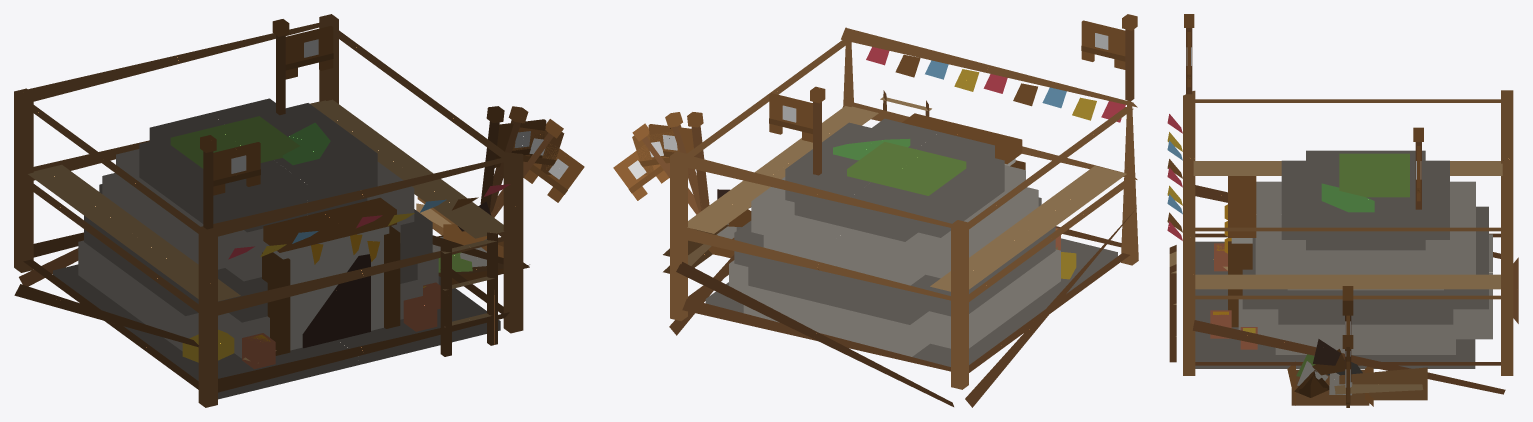
File: bear-producer_lod1.glb
3 renders of one model, left to right at view 1: azimuth 30°, elevation 25°; view 2: azimuth 150°, elevation 25°; view 3: azimuth 270°, elevation 25°, orthographic. The views are drawn at different scales.
Visible parts, largest first — view 1: scaffold-mesh, built-mesh, dismantle-75-mesh, dismantle-50-mesh, dismantle-25-mesh, banner, scaffold-banner, dismantle-25-banner, scaffold-flag-pole, flag-pole, dismantle-75-banner, dismantle-50-banner (+3 smaller); view 2: scaffold-mesh, built-mesh, dismantle-75-mesh, scaffold-banner, banner, dismantle-25-banner, dismantle-75-banner, scaffold-flag-pole, flag-pole, dismantle-75-flag-pole, dismantle-50-flag-pole, dismantle-50-banner (+3 smaller); view 3: scaffold-mesh, built-mesh, dismantle-25-mesh, dismantle-75-mesh, dismantle-50-mesh, flag-pole, scaffold-flag-pole.
Part boxes in pixels (bbox=[...]): scaffold-mesh: bbox=[14, 14, 523, 407]; built-mesh: bbox=[78, 98, 436, 369]; dismantle-75-mesh: bbox=[102, 185, 529, 358]; dismantle-50-mesh: bbox=[183, 239, 503, 362]; dismantle-25-mesh: bbox=[183, 201, 529, 363]; banner: bbox=[285, 25, 333, 79]; scaffold-banner: bbox=[213, 142, 260, 195]; dismantle-25-banner: bbox=[524, 143, 584, 202]; scaffold-flag-pole: bbox=[200, 135, 216, 229]; flag-pole: bbox=[272, 19, 289, 115]; dismantle-75-banner: bbox=[494, 119, 546, 167]; dismantle-50-banner: bbox=[512, 127, 564, 174]; scaffold-mesh: bbox=[663, 27, 1138, 407]; built-mesh: bbox=[729, 113, 1060, 356]; dismantle-75-mesh: bbox=[726, 167, 1038, 356]; scaffold-banner: bbox=[1081, 20, 1125, 69]; banner: bbox=[769, 93, 812, 142]; dismantle-25-banner: bbox=[613, 145, 669, 200]; dismantle-75-banner: bbox=[648, 124, 694, 159]; scaffold-flag-pole: bbox=[1122, 14, 1137, 100]; flag-pole: bbox=[810, 86, 825, 175]; dismantle-75-flag-pole: bbox=[687, 112, 709, 210]; dismantle-50-flag-pole: bbox=[665, 112, 703, 212]; dismantle-50-banner: bbox=[632, 131, 678, 175]; scaffold-mesh: bbox=[1167, 90, 1518, 400]; built-mesh: bbox=[1214, 150, 1492, 327]; dismantle-25-mesh: bbox=[1213, 259, 1373, 406]; dismantle-75-mesh: bbox=[1214, 252, 1453, 405]; dismantle-50-mesh: bbox=[1214, 253, 1362, 397]; flag-pole: bbox=[1413, 127, 1423, 209]; scaffold-flag-pole: bbox=[1184, 14, 1194, 94].
Bounding box in the file's own units: 2.7 × 1.55 × 1.99.
